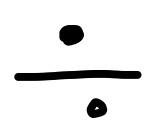div: (13, 26, 141, 117)
